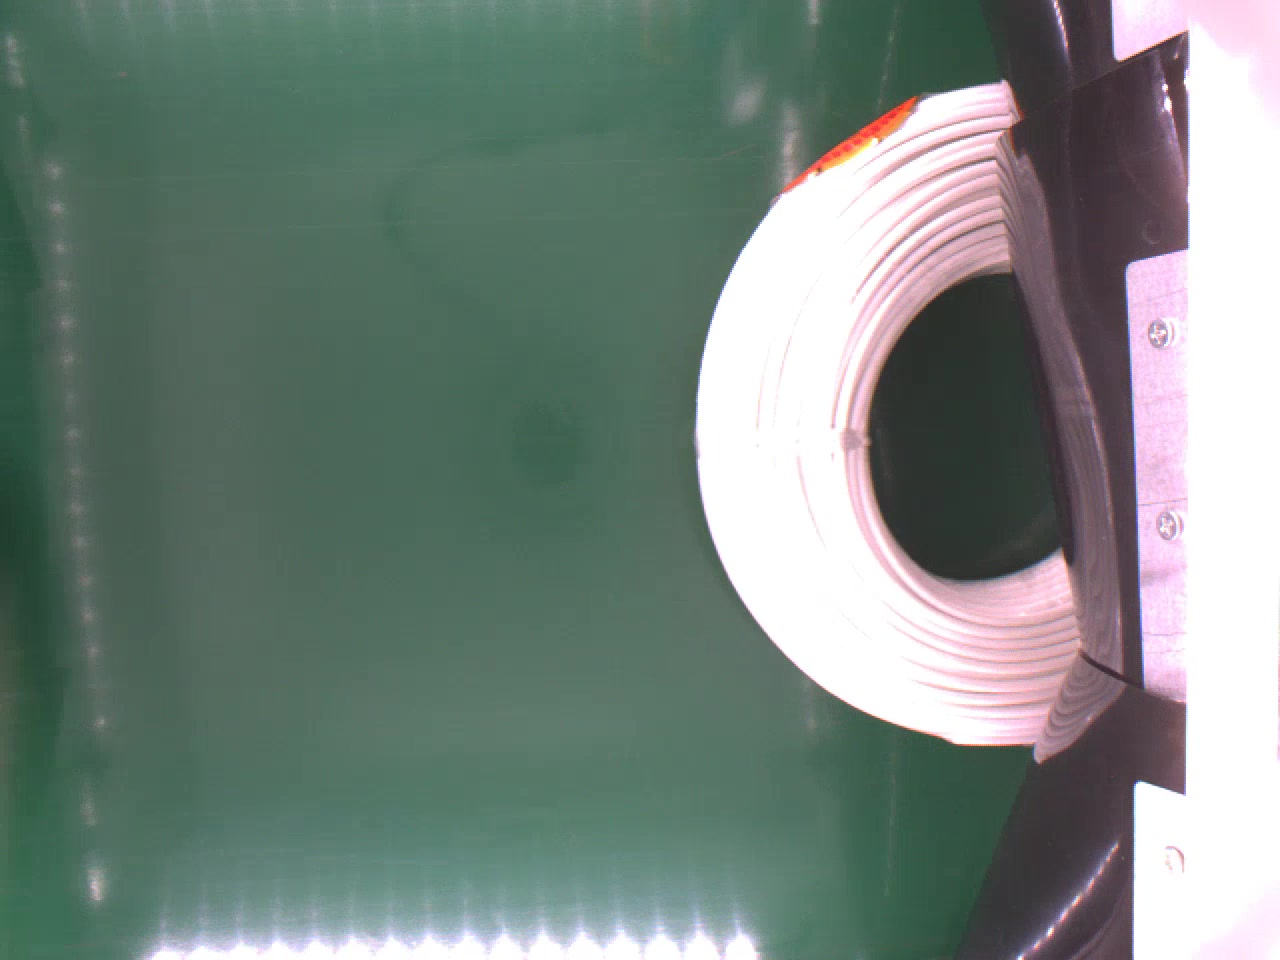white: (693, 80, 1076, 747)
